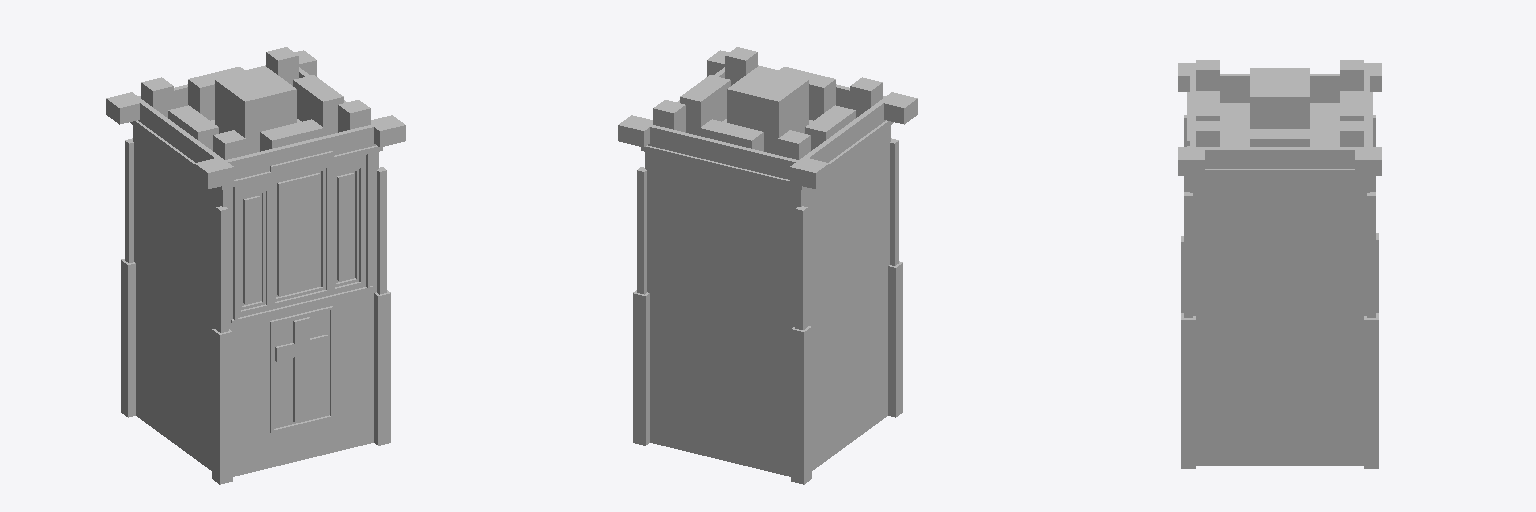
The model's file is rails vox.obj.
The picture shows the model from 3 angles: view 1: azimuth 30°, elevation 25°; view 2: azimuth 150°, elevation 25°; view 3: azimuth 270°, elevation 25°; orthographic projection.
Parts seen in each view (by area): view 1: object 1; view 2: object 1; view 3: object 1.
Boxes of the visible parts, box(x1,y1,x2,y2) form: object 1: box(106, 47, 405, 484); object 1: box(618, 47, 917, 484); object 1: box(1178, 60, 1381, 468).
Size of the model in its own units: 7.6 by 12.6 by 6.8.